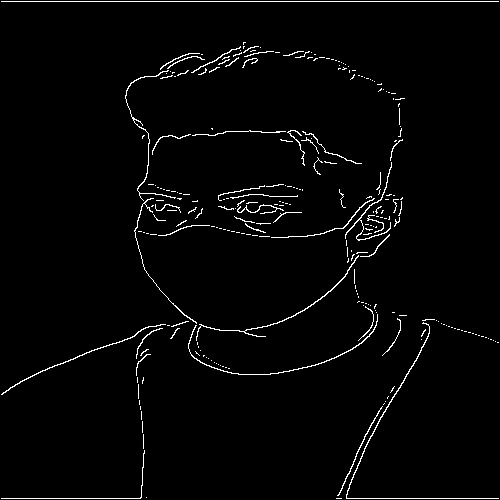mask: (132, 229, 355, 330)
